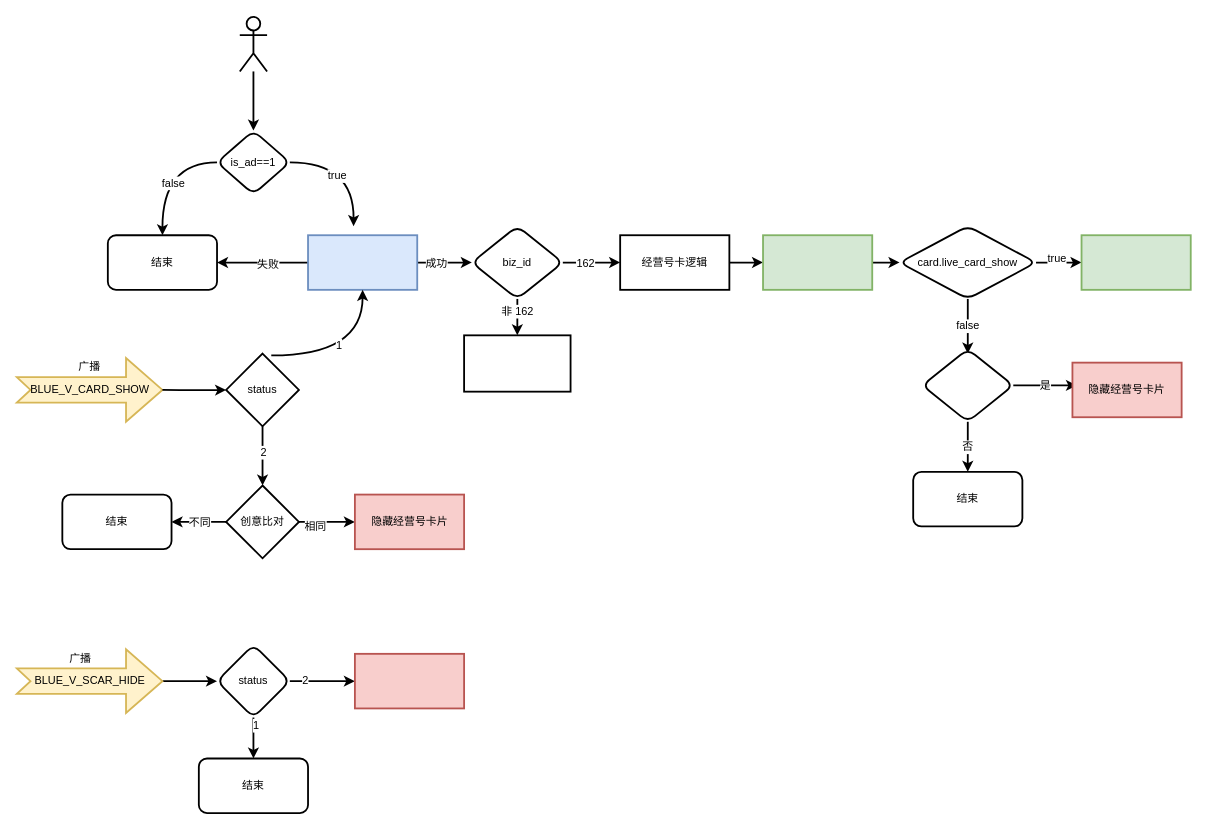
Some shapes in this 1207 by 829 pixel diagram are drawn without their labels. The shapes that lost their labels are listed below. From the top down, each one's box as (x1, y1, x2, y2) in pixels, then its label:
(238, 15, 268, 72): 进房
(307, 234, 418, 290): 请求广告物料
(762, 234, 873, 290): 展示经营号icon
(1080, 234, 1191, 290): 展示经营号卡片
(463, 334, 571, 392): 游戏卡逻辑
(921, 348, 1014, 422): 当前正在展示
(354, 652, 465, 709): 隐藏经营号icon
